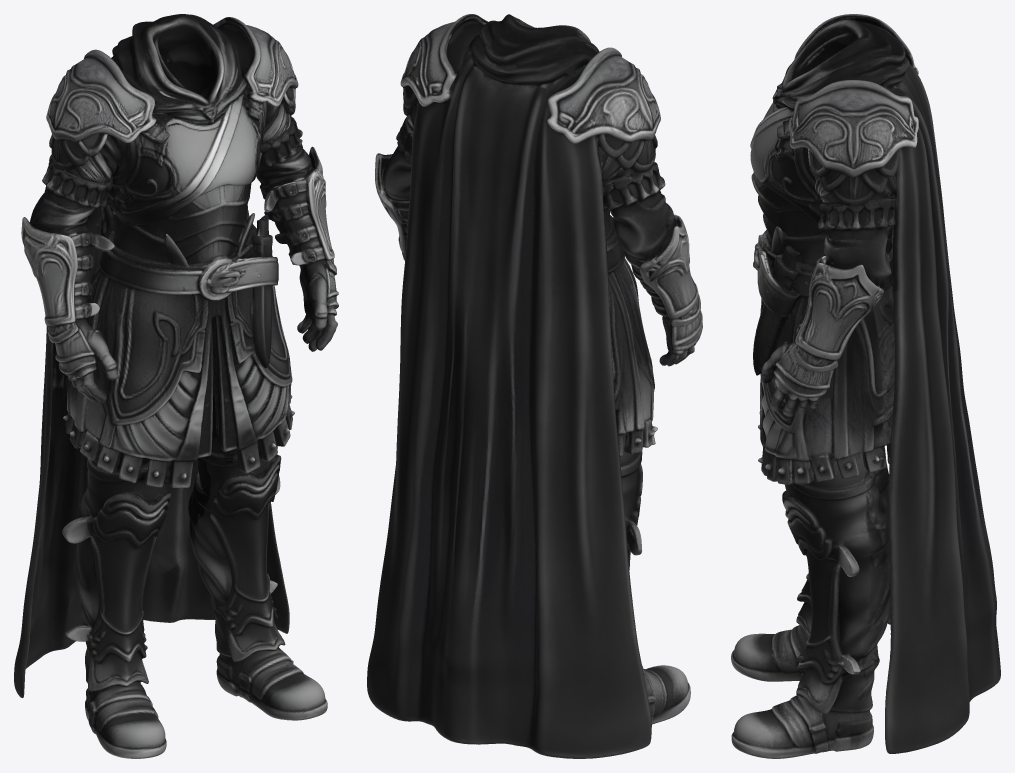
The picture shows the model from 3 angles, left to right: view 1: azimuth 30°, elevation 25°; view 2: azimuth 150°, elevation 25°; view 3: azimuth 270°, elevation 25°; orthographic projection. The views are drawn at different scales.
Parts seen in each view (by area): view 1: mesh_0; view 2: mesh_0; view 3: mesh_0.
Boxes of the visible parts, x1=… form: mesh_0: x1=14, y1=14, x2=338, y2=758; mesh_0: x1=367, y1=14, x2=702, y2=758; mesh_0: x1=731, y1=14, x2=1000, y2=758.
Bounding box in the file's own units: 0.8629 × 1.9 × 0.6845.
1 material, 1 textured.
